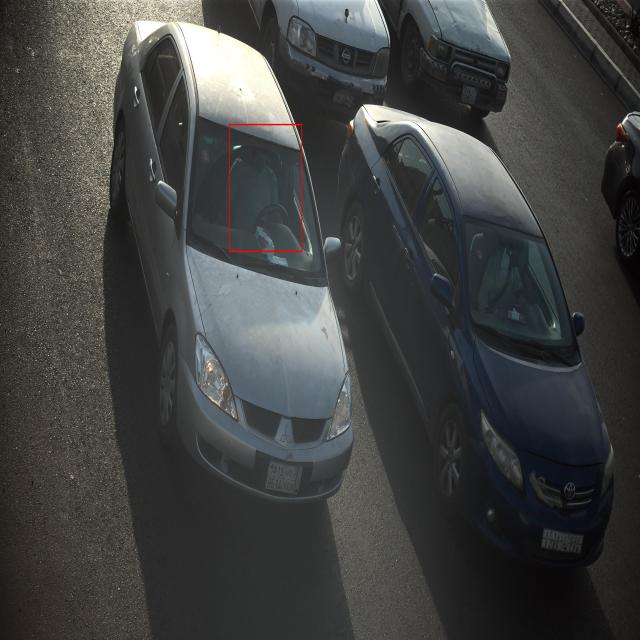windshield: (185, 112, 328, 290), (456, 210, 582, 376)
